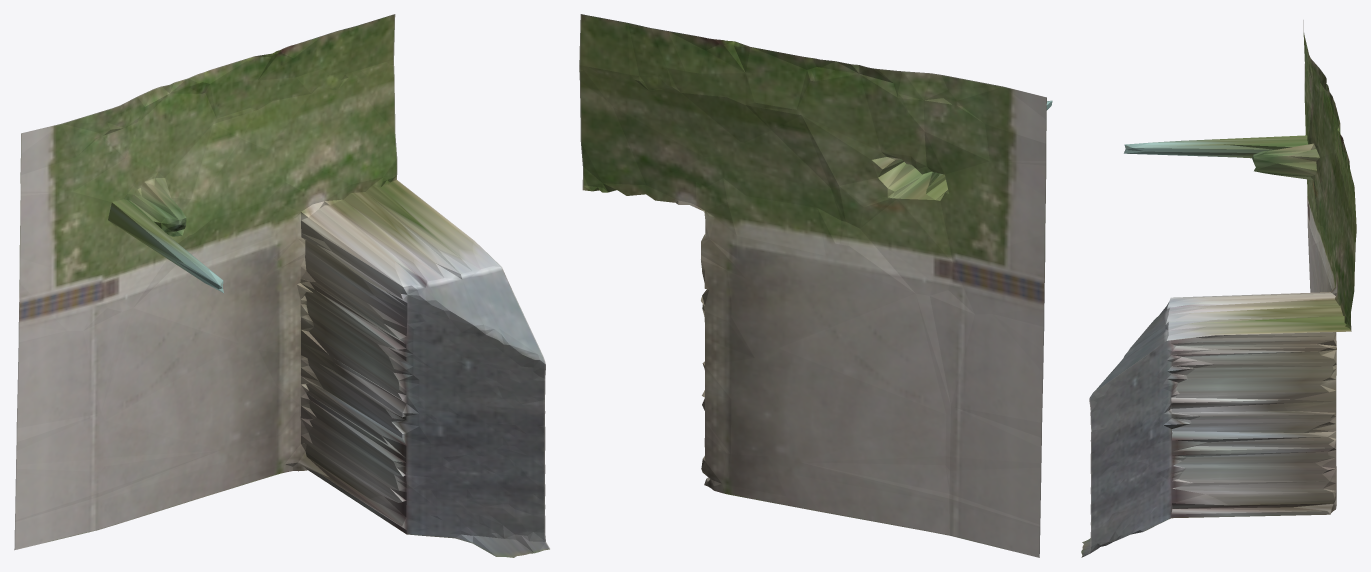
The model's file is map_90_90.obj.
3 views of the same model, side by side, from view 1: azimuth 30°, elevation 25°; view 2: azimuth 150°, elevation 25°; view 3: azimuth 270°, elevation 25° (orthographic). The views are drawn at different scales.
Parts seen in each view (by area): view 1: grp1; view 2: grp1; view 3: grp1.
Boxes of the visible parts, x1,y1,x2,y2 form: grp1: (14, 14, 549, 557); grp1: (579, 14, 1052, 557); grp1: (1081, 20, 1356, 557).
Size of the model in its own units: 10 by 10 by 6.73.
1 material, 1 textured.
